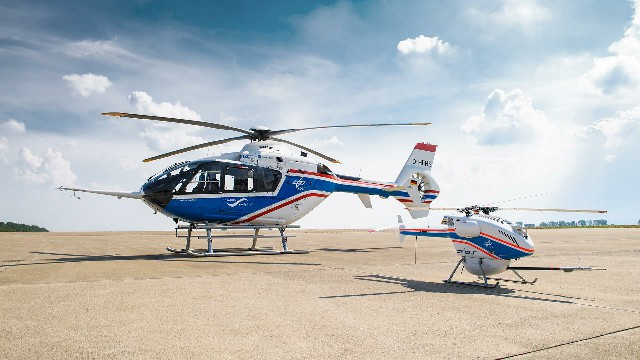maybay_khongnguoilai: (368, 191, 603, 288)
